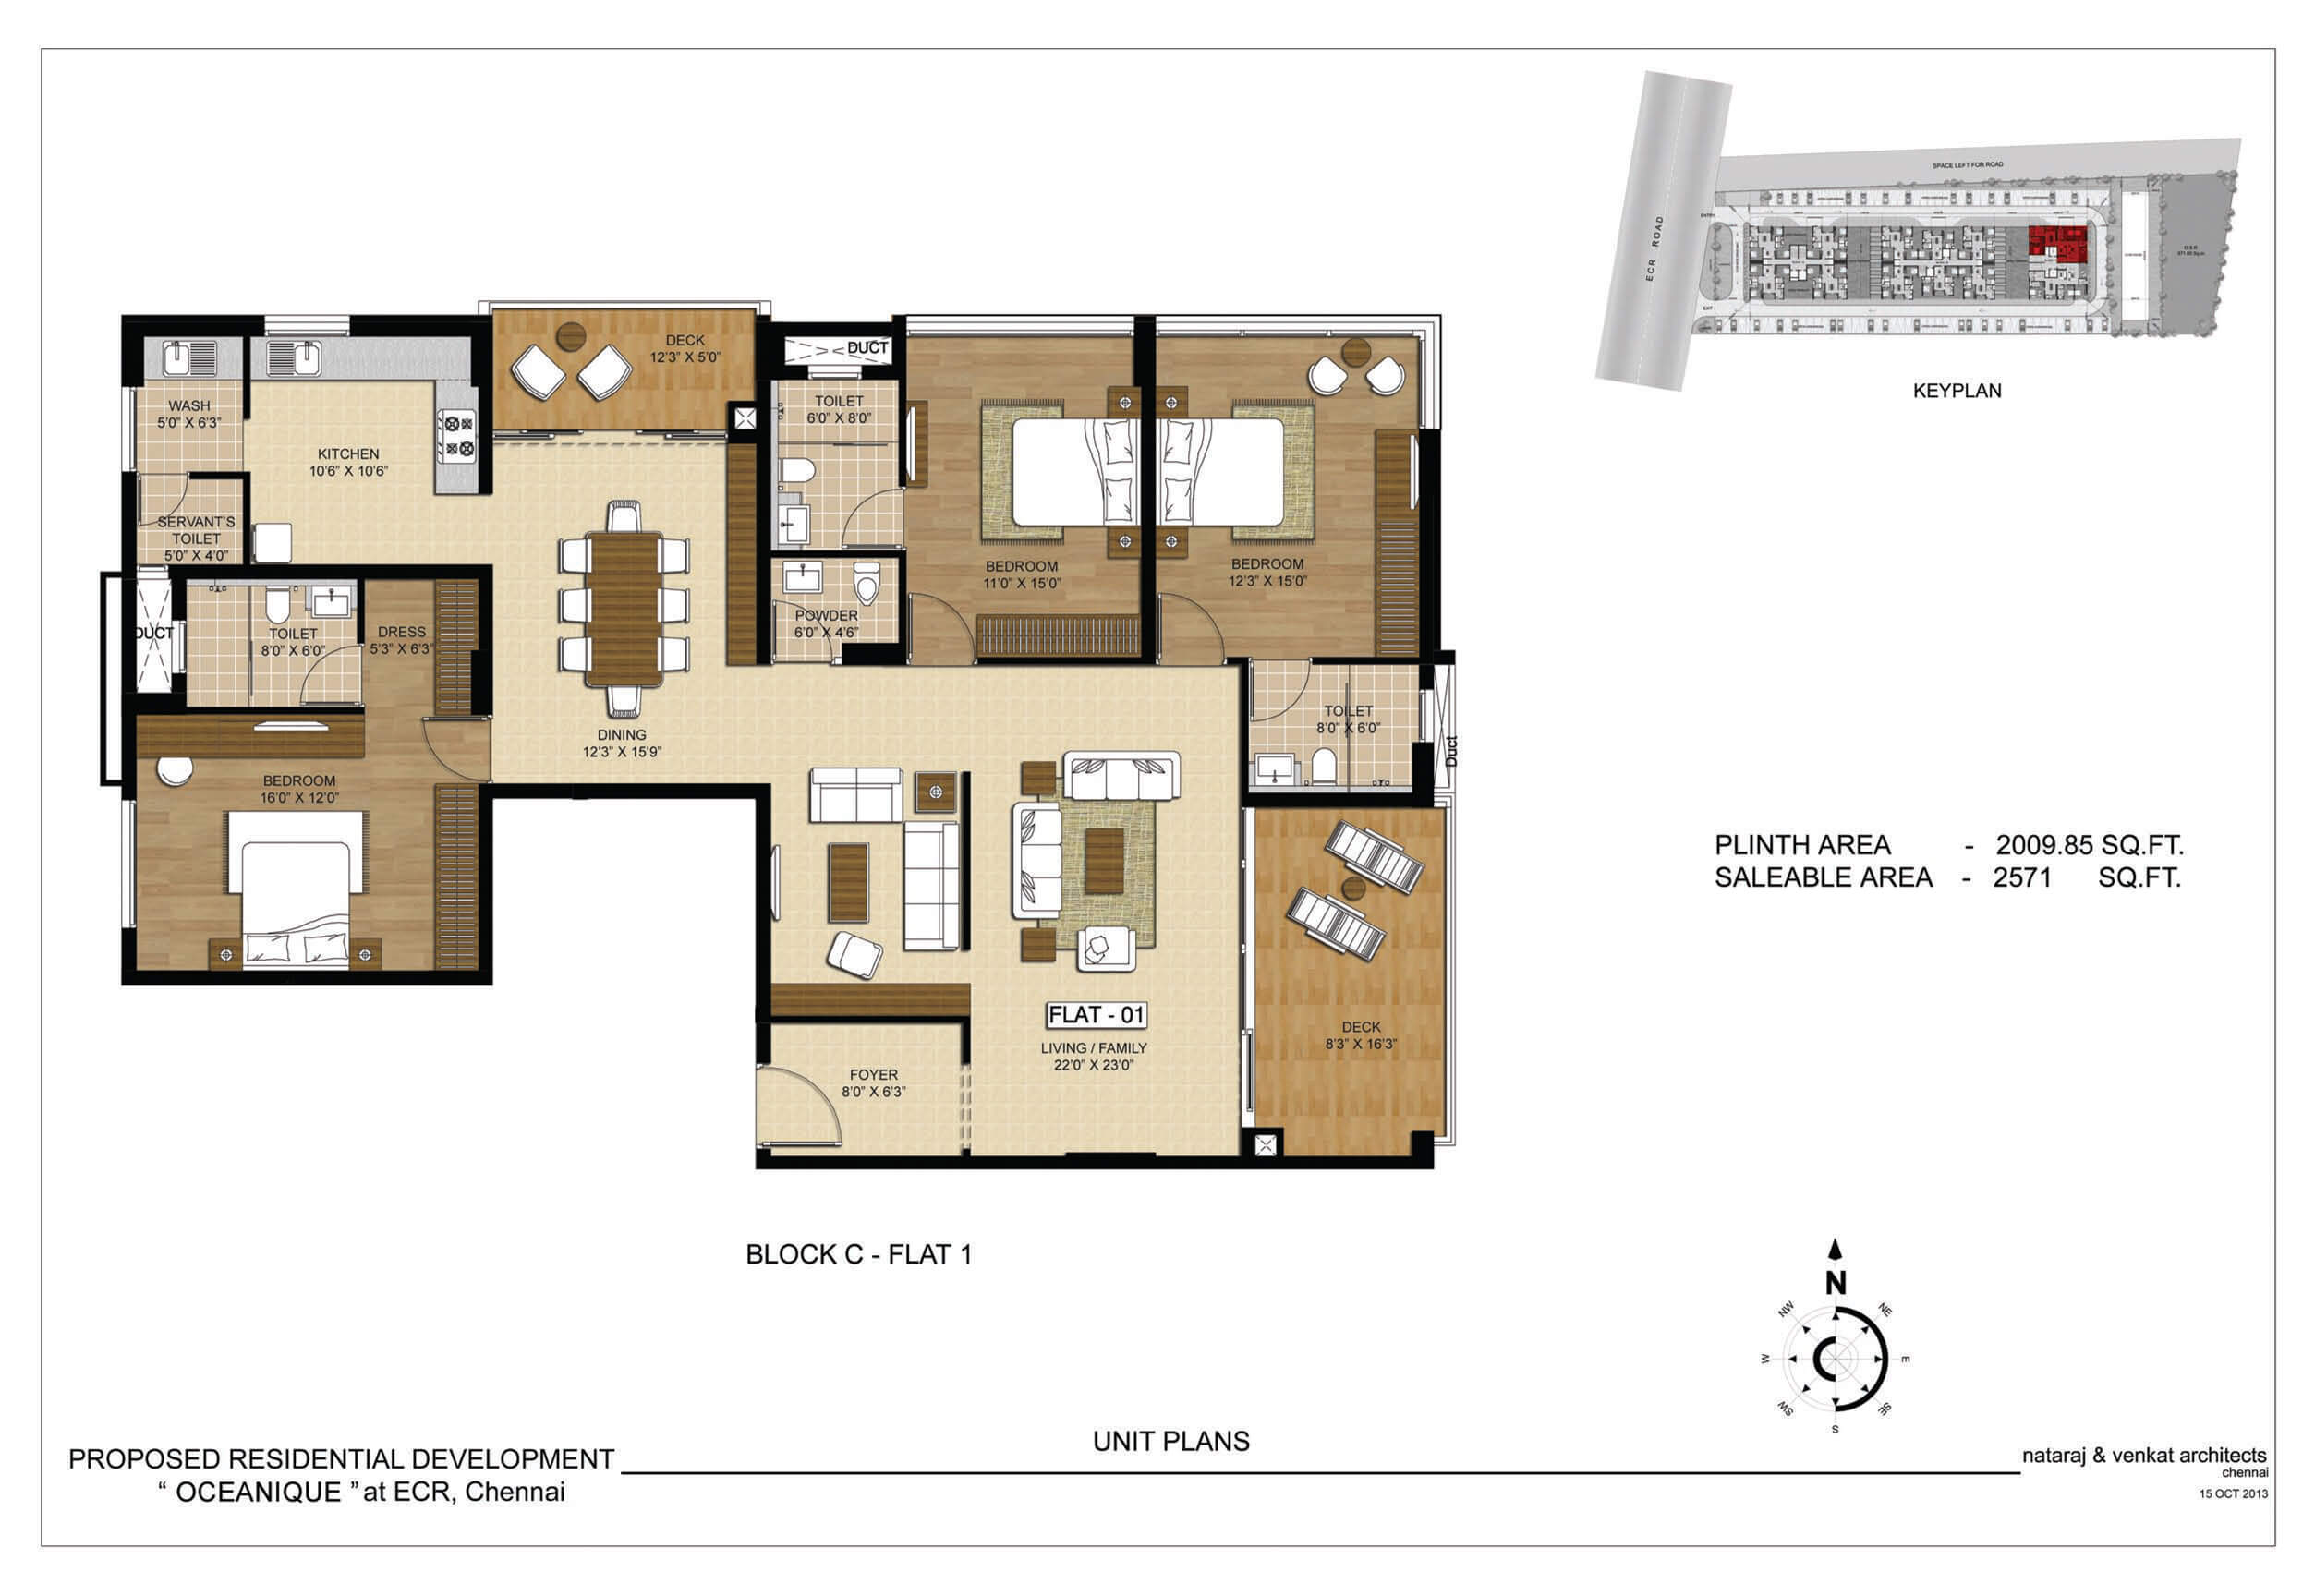door: (770, 1063, 850, 1149), (419, 716, 486, 783), (1156, 591, 1226, 653), (769, 598, 836, 658), (908, 595, 968, 660), (836, 484, 895, 549), (1251, 667, 1309, 728), (297, 649, 355, 707), (139, 486, 190, 530)
